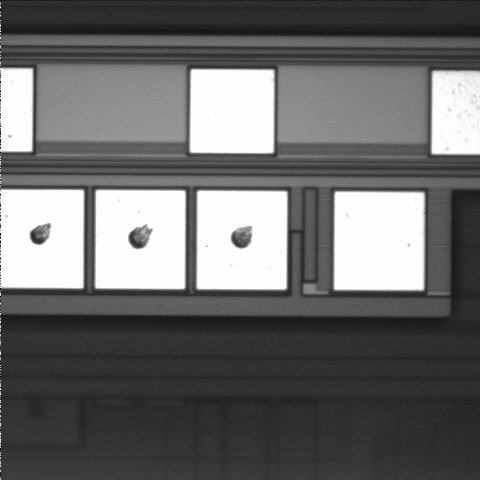pad: (95, 190, 185, 289), (197, 191, 287, 289), (334, 192, 424, 290), (190, 69, 274, 153)
